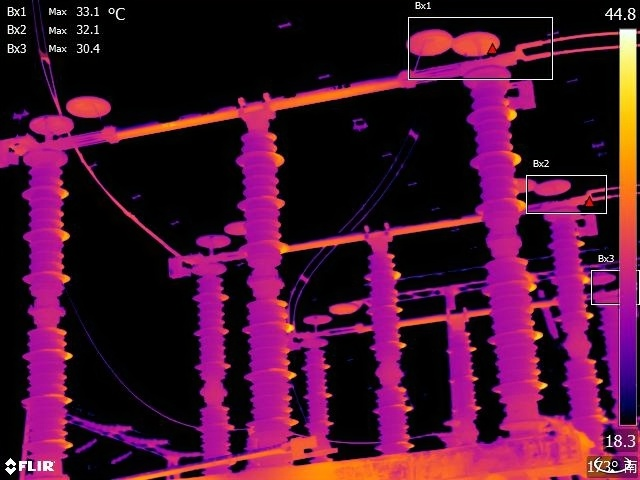post insulator: (458, 71, 551, 425), (12, 155, 84, 461), (232, 123, 298, 434), (549, 218, 615, 438), (366, 245, 412, 452), (190, 273, 233, 459), (299, 343, 335, 447), (447, 326, 481, 436)
switch: (28, 43, 523, 161), (188, 183, 583, 274), (307, 283, 613, 340)
